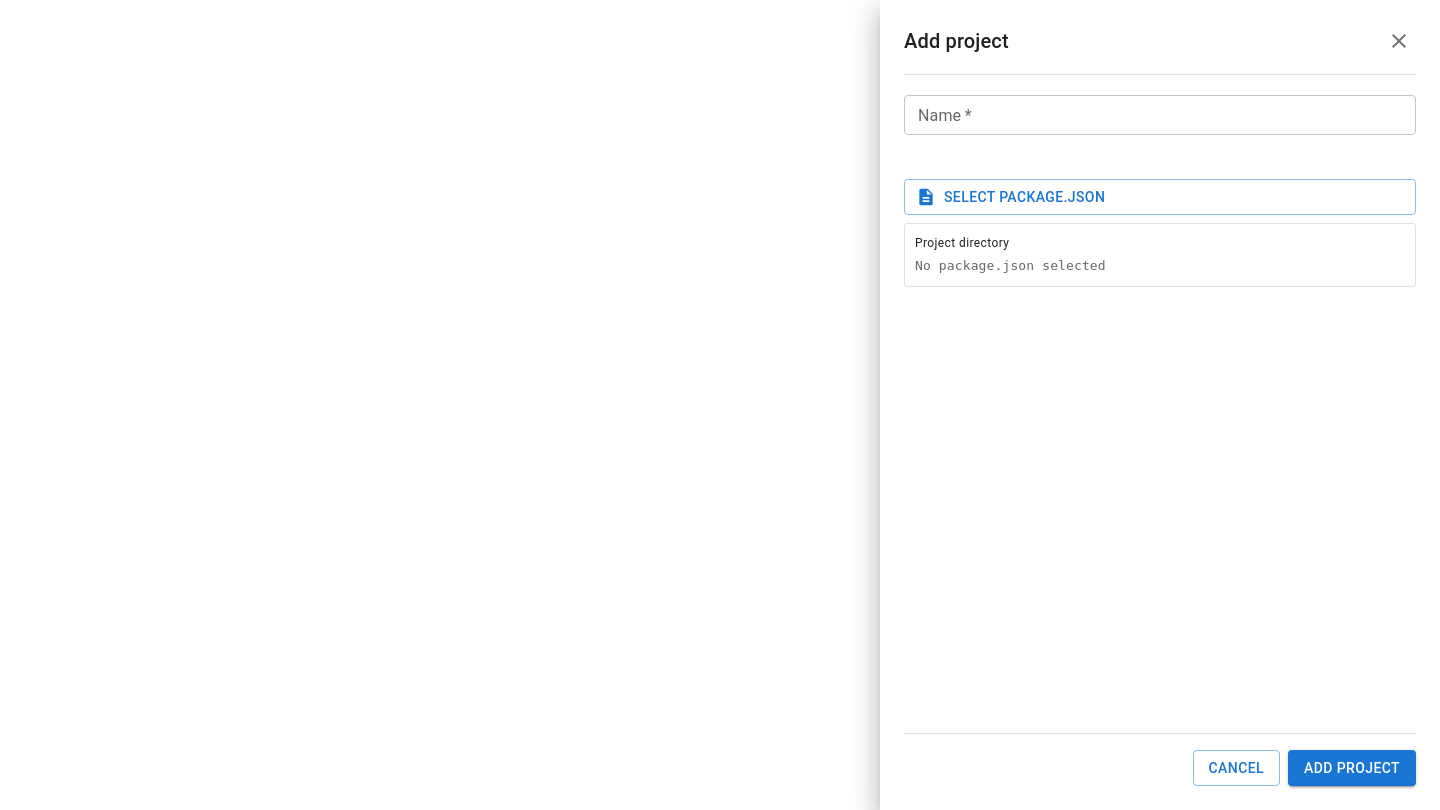
Test case: ProjectFormDrawer › opens a package.json picker from the selection button
Click the button "Select package.json" at (1025, 197), box x1=904 y1=179 x2=1416 y2=215
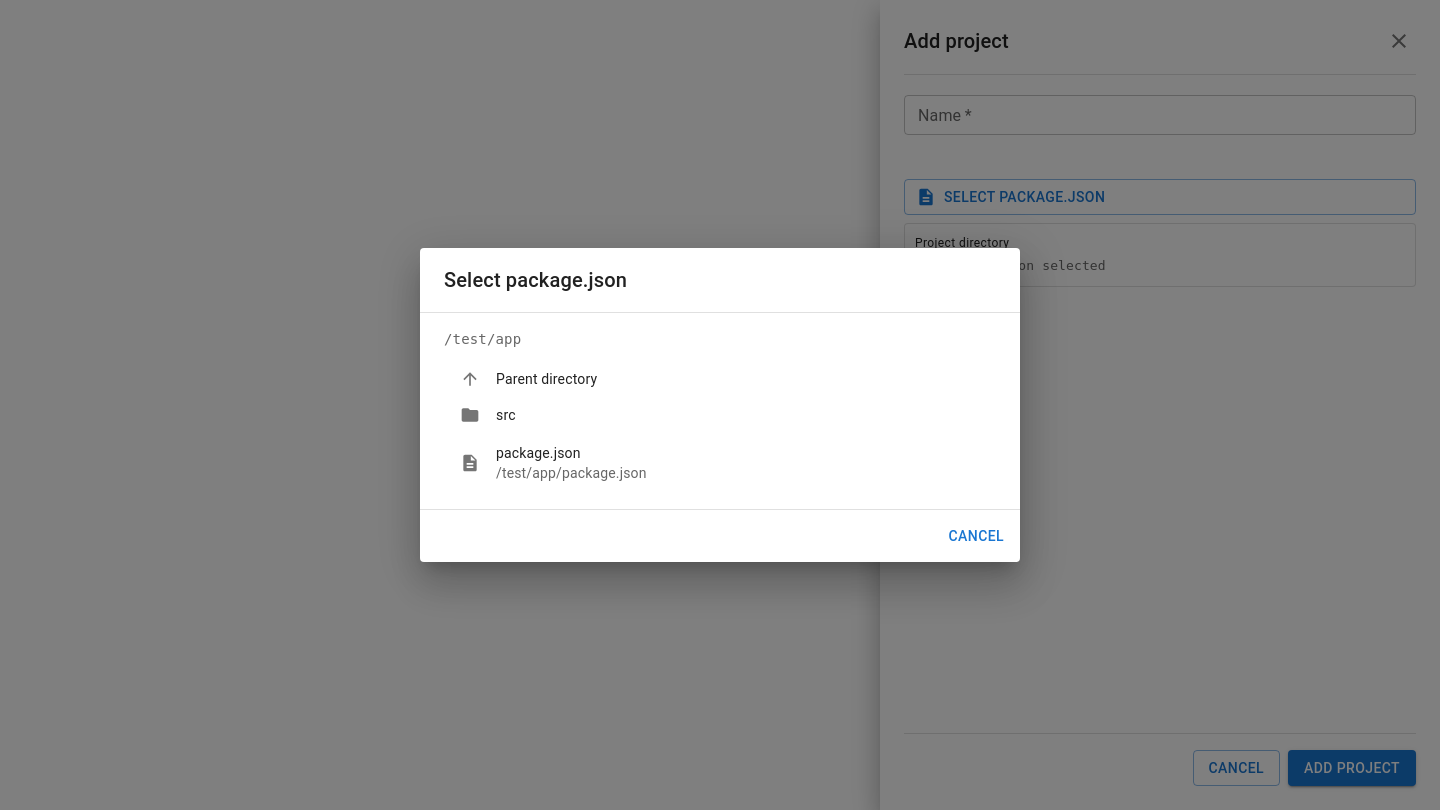
Expected: the dialog "Select package.json" is shown, x1=420 y1=248 x2=1020 y2=562
Expected: the text "package.json" is shown, x1=496 y1=445 x2=581 y2=461
